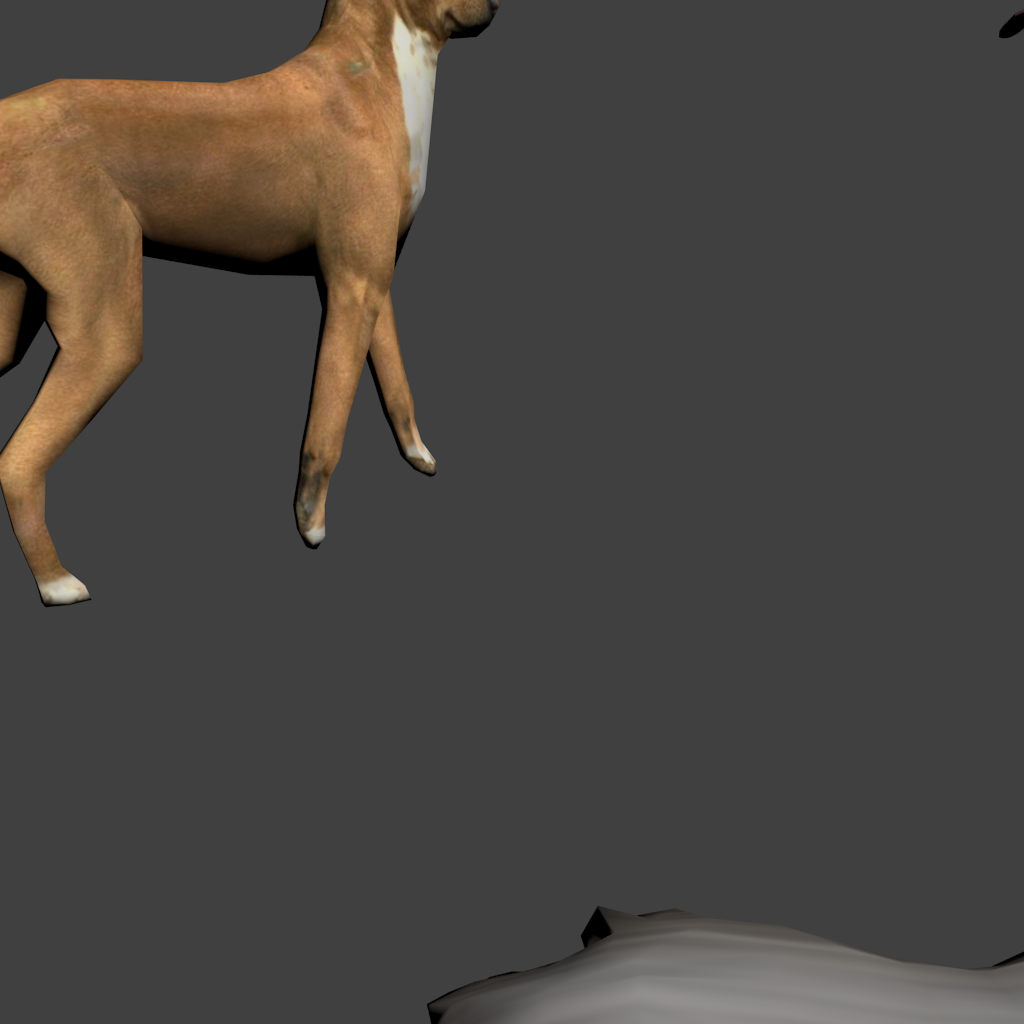Dog: (0, 0, 501, 607)
